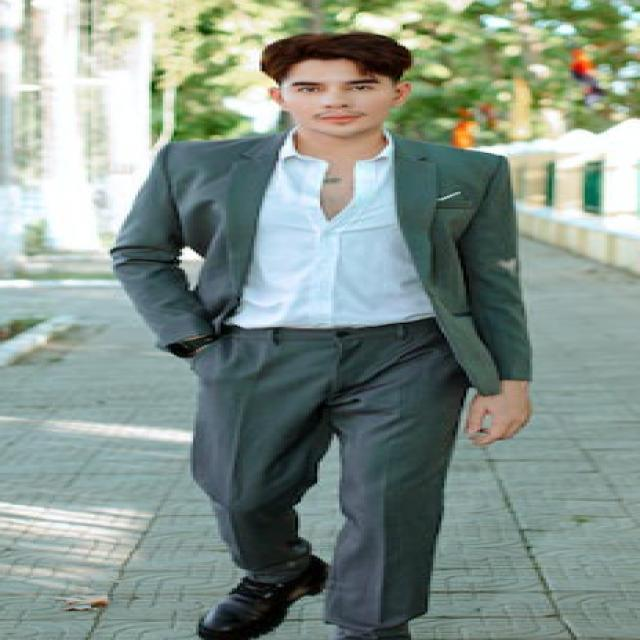Watch: (154, 331, 222, 364)
